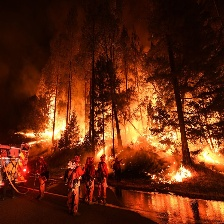fire: (19, 99, 69, 145), (139, 102, 184, 151), (146, 159, 197, 185), (198, 111, 221, 146), (197, 142, 221, 165), (88, 145, 115, 162), (98, 119, 117, 142), (76, 131, 88, 145)
